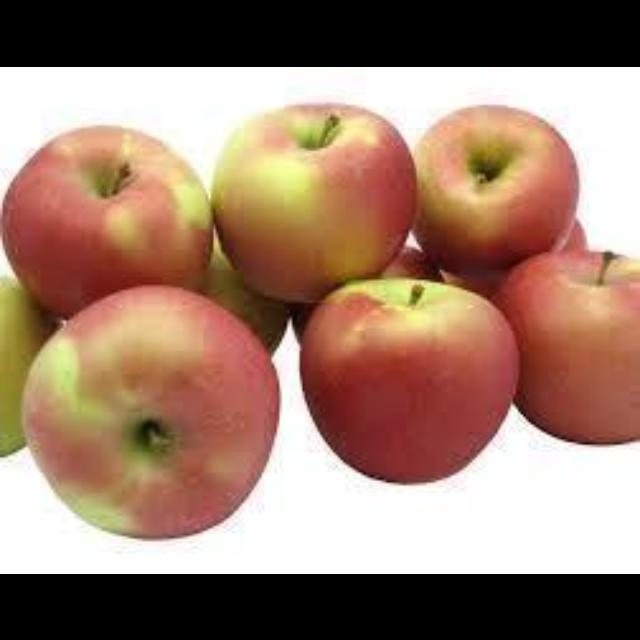apple: (25, 287, 277, 536), (300, 277, 516, 483), (0, 124, 211, 315), (211, 104, 414, 300), (414, 104, 577, 274), (495, 251, 637, 442), (0, 277, 56, 455), (203, 239, 287, 350), (378, 244, 442, 279), (442, 269, 503, 295), (556, 218, 584, 249), (292, 302, 312, 338)
